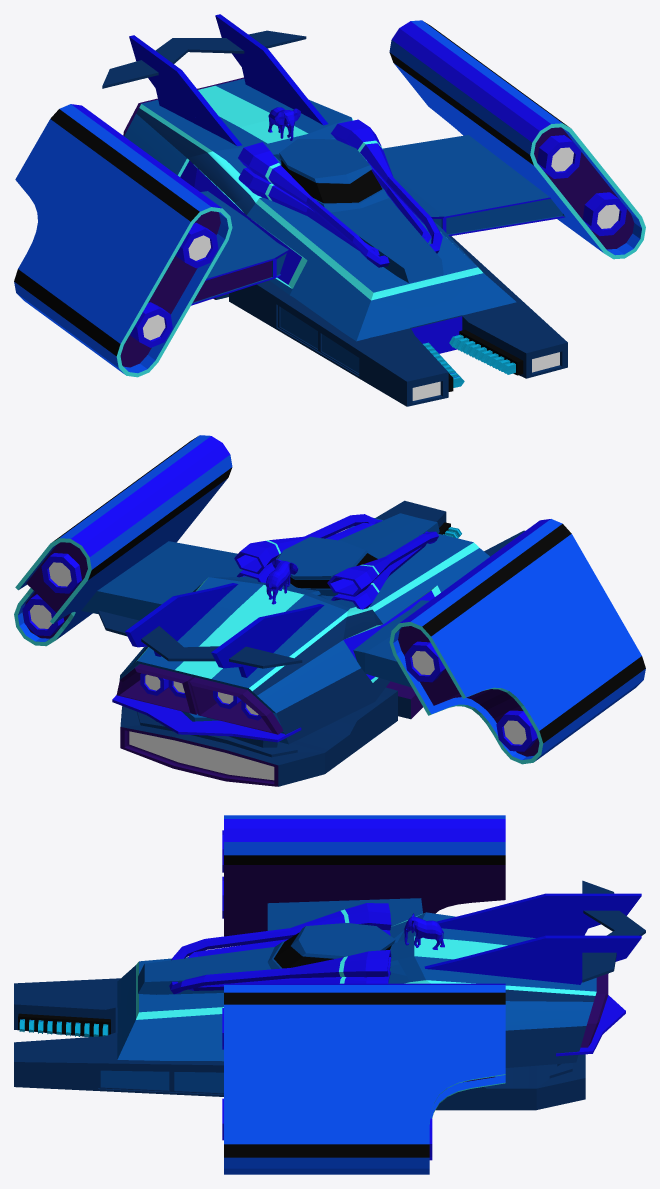
File: Datura.fbx
3 views of the same model, one above another, from view 1: azimuth 30°, elevation 25°; view 2: azimuth 150°, elevation 25°; view 3: azimuth 270°, elevation 25° (orthographic).
Visible parts, largest first — view 1: pasted__polySurface140; view 2: pasted__polySurface140; view 3: pasted__polySurface140.
Boxes of the visible parts, x1,y1,x2,y2 form: pasted__polySurface140: [14, 14, 645, 406]; pasted__polySurface140: [14, 435, 645, 786]; pasted__polySurface140: [14, 815, 645, 1174].
Bounding box in the file's own units: 92.9 × 27.78 × 96.
